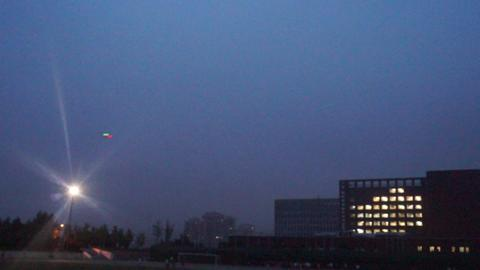UAV: (102, 134, 113, 138)
